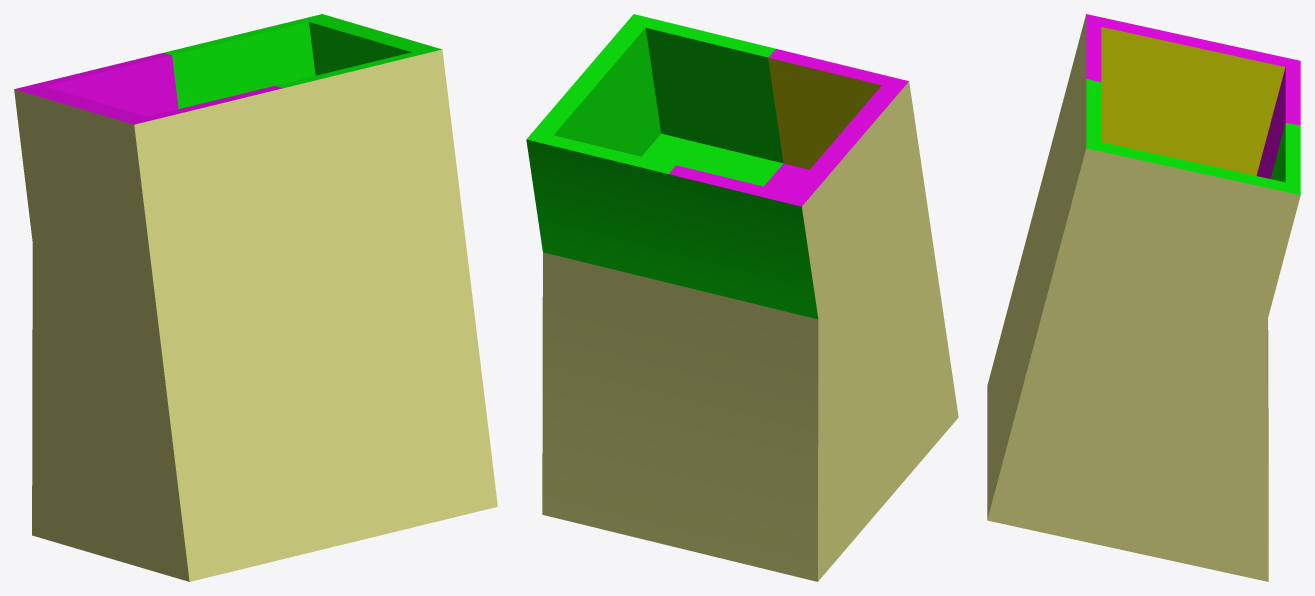
The model's file is pembe_yesil_kutu.fbx.
3 views of the same model, side by side, from view 1: azimuth 30°, elevation 25°; view 2: azimuth 150°, elevation 25°; view 3: azimuth 270°, elevation 25° (orthographic). The views are drawn at different scales.
Visible parts, largest first — view 1: pCube11; view 2: pCube11; view 3: pCube11.
Part boxes in pixels (bbox=[...]): pCube11: bbox=[14, 14, 497, 581]; pCube11: bbox=[526, 14, 958, 581]; pCube11: bbox=[987, 14, 1300, 581].
Size of the model in its own units: 4.33 by 6.51 by 4.27.
